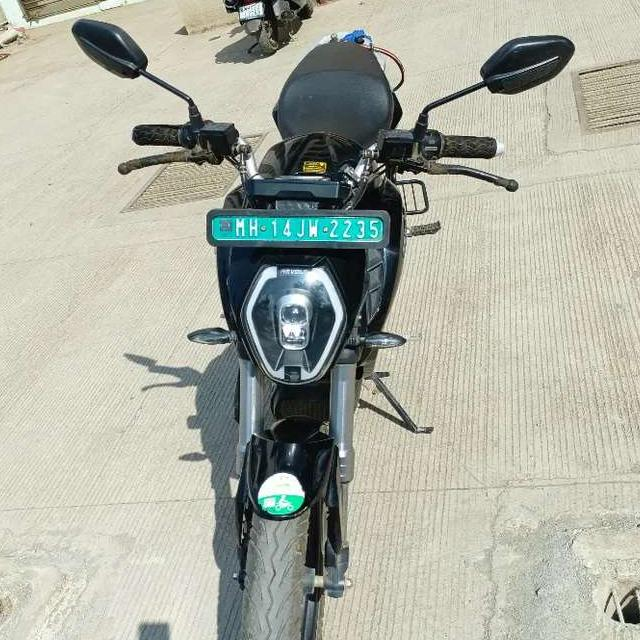Indian_Number_Plate: (212, 213, 387, 244)
